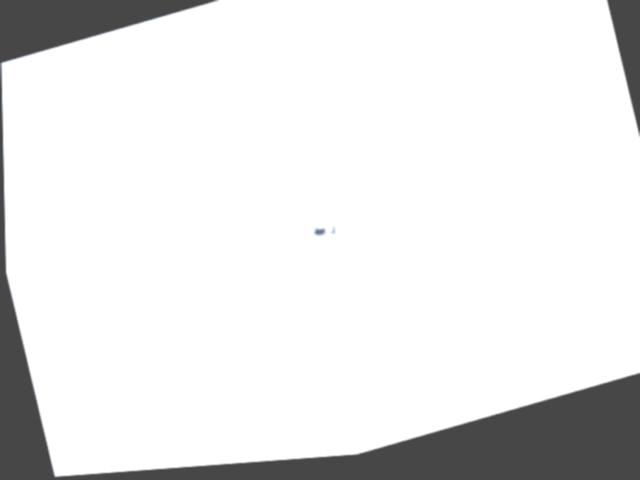insansiz-hava-araci: (306, 222, 336, 247)
